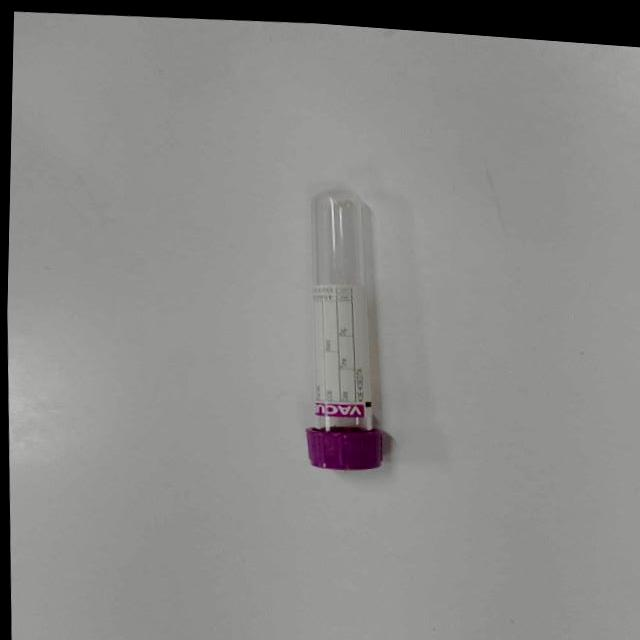General: (303, 425, 385, 472)
Sharps: (304, 191, 383, 471)
